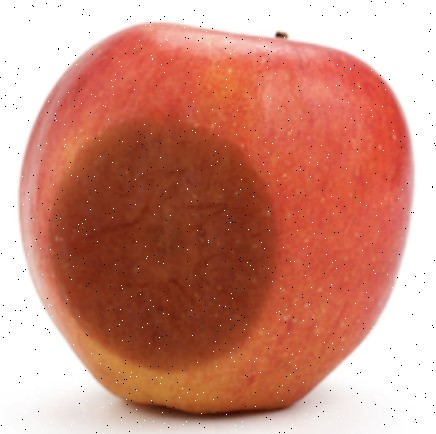rotten_apple: (20, 23, 415, 414)
